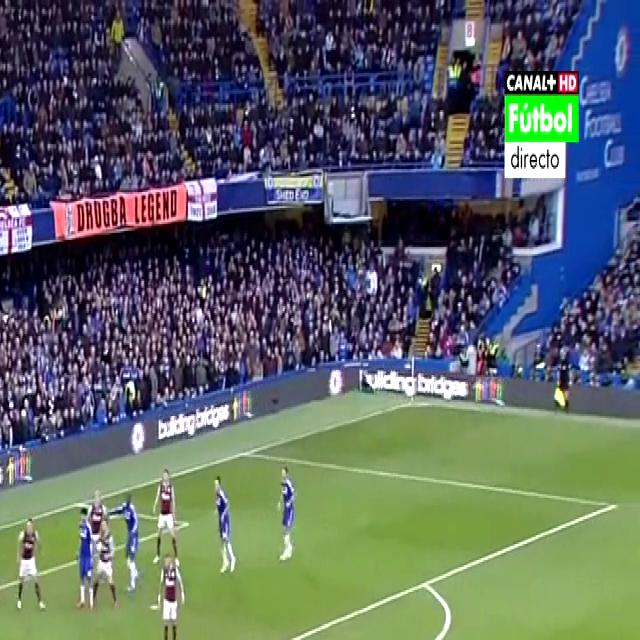referee: (550, 342, 574, 421)
soccer-player: (202, 459, 241, 583), (11, 504, 51, 620), (272, 451, 304, 572), (152, 542, 189, 640), (70, 493, 100, 612), (148, 458, 180, 568), (114, 480, 143, 594), (84, 474, 112, 575)
